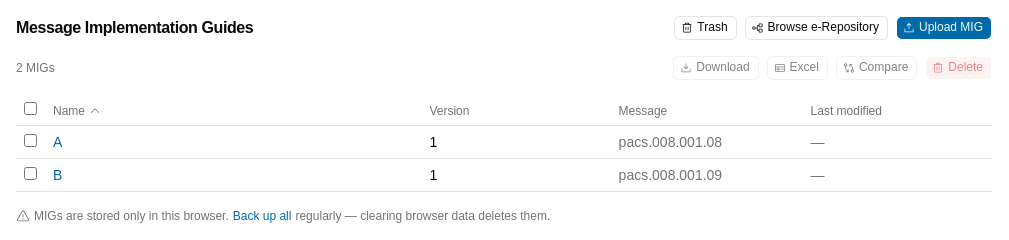
MigHome › Compare is enabled for two versions of the same family
Expected: the table is shown, [16, 96, 992, 192]
Click the checkbox named "Select A 1" at (30, 140), box [24, 134, 37, 147]
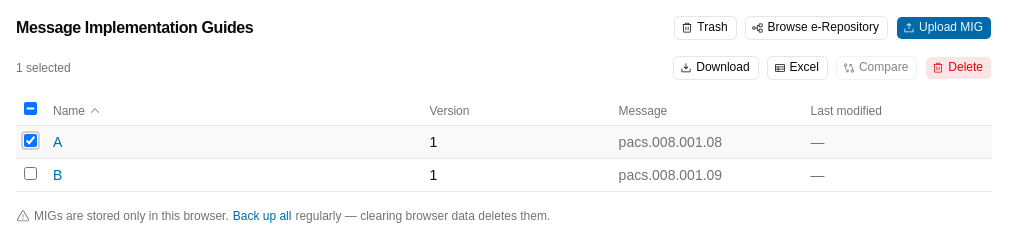
Click the checkbox named "Select B 1" at (30, 174), box [24, 167, 37, 180]
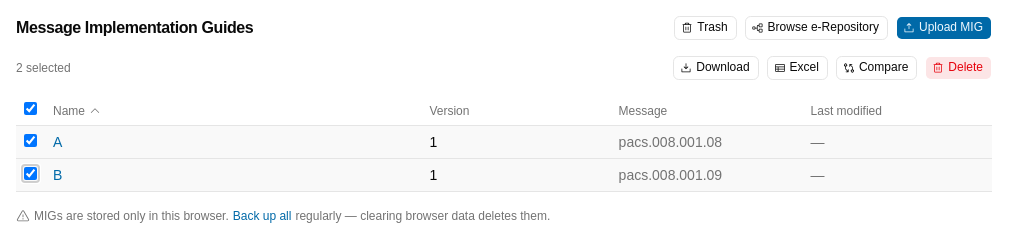
Result: the button "Compare" is enabled at [836, 56, 917, 80]
